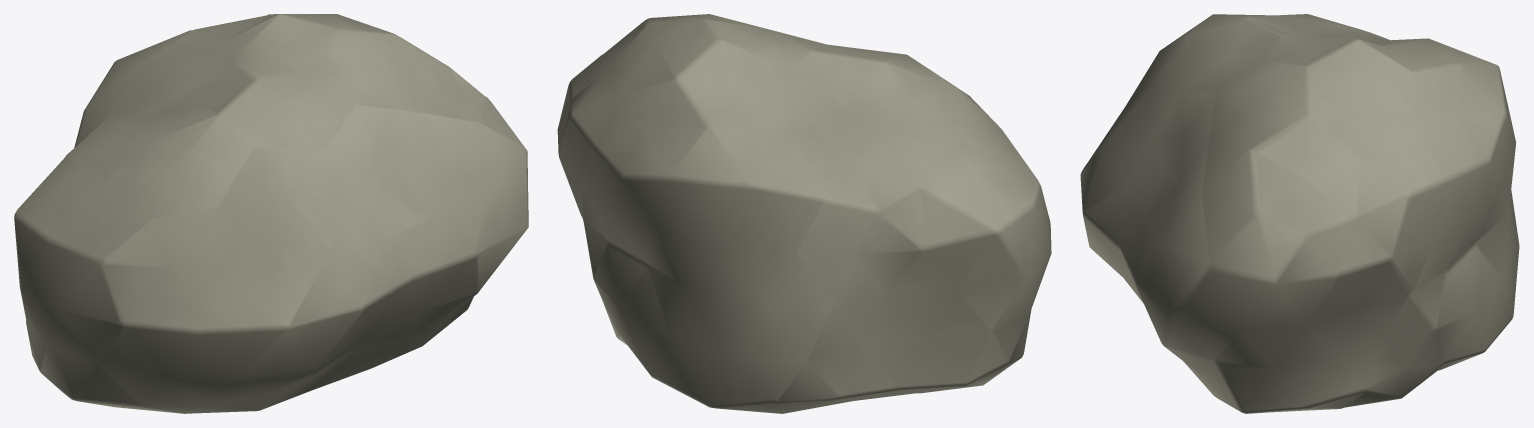
The model's file is boulder-medium-120.glb.
The picture shows the model from 3 angles, left to right: view 1: azimuth 30°, elevation 25°; view 2: azimuth 150°, elevation 25°; view 3: azimuth 270°, elevation 25°; orthographic projection. The views are drawn at different scales.
Parts seen in each view (by area): view 1: boulder-medium-120 / N01 / warm weathered granite; view 2: boulder-medium-120 / N01 / warm weathered granite; view 3: boulder-medium-120 / N01 / warm weathered granite.
Part boxes in pixels (left/top/right/bottom): boulder-medium-120 / N01 / warm weathered granite: left=14, top=14, right=528, bottom=413; boulder-medium-120 / N01 / warm weathered granite: left=557, top=14, right=1051, bottom=413; boulder-medium-120 / N01 / warm weathered granite: left=1080, top=14, right=1519, bottom=413.
Bounding box in the file's own units: 1.3 × 0.7905 × 0.9852.
Materials: 2 (1 with a texture image).
